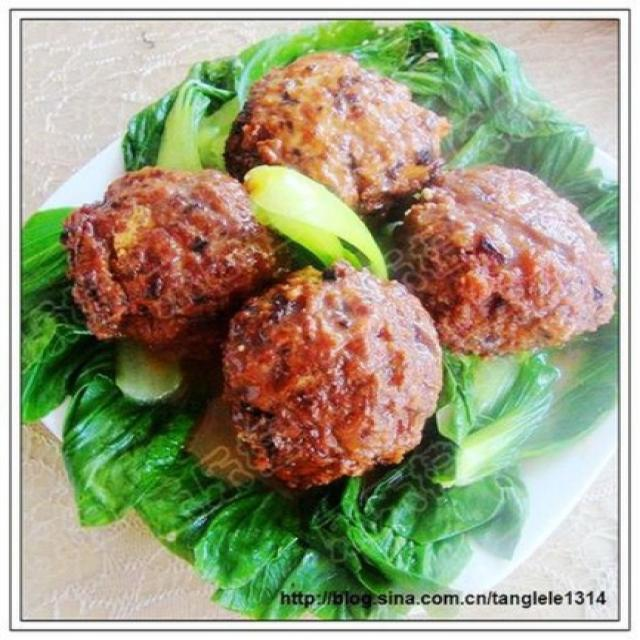猪肉菜式: (41, 42, 593, 578)
